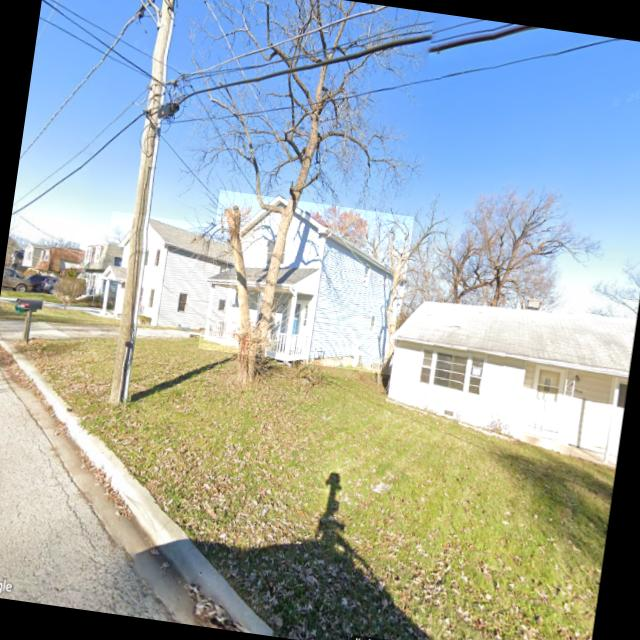House: (380, 288, 636, 470), (198, 190, 414, 376), (97, 210, 237, 338), (72, 238, 124, 303)
